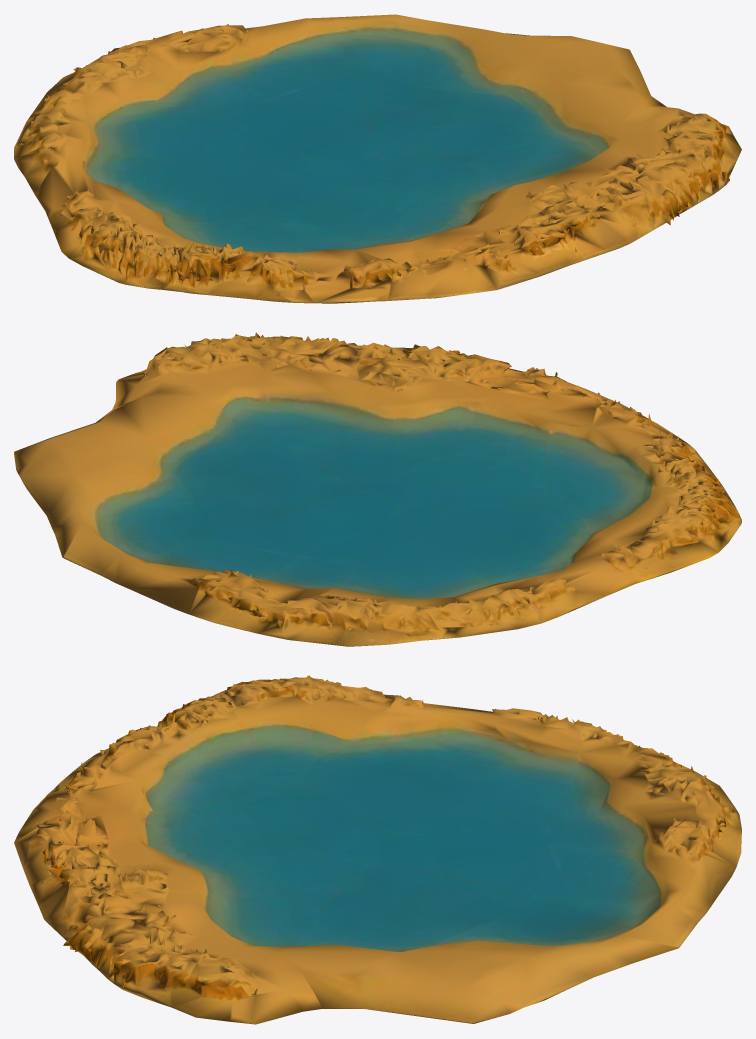
3 renders of one model, top to bottom at view 1: azimuth 30°, elevation 25°; view 2: azimuth 150°, elevation 25°; view 3: azimuth 270°, elevation 25°, orthographic. The views are drawn at different scales.
Visible parts, largest first — view 1: tripo_node_2077b105-354b-4194-8078-8e823d172c96; view 2: tripo_node_2077b105-354b-4194-8078-8e823d172c96; view 3: tripo_node_2077b105-354b-4194-8078-8e823d172c96.
Part boxes in pixels (<box>): tripo_node_2077b105-354b-4194-8078-8e823d172c96: <box>14,14,741,303</box>; tripo_node_2077b105-354b-4194-8078-8e823d172c96: <box>14,332,741,646</box>; tripo_node_2077b105-354b-4194-8078-8e823d172c96: <box>14,675,741,1024</box>.
Bounding box in the file's own units: 0.9999 × 0.0535 × 0.9187.
Materials: 1 (1 with a texture image).
